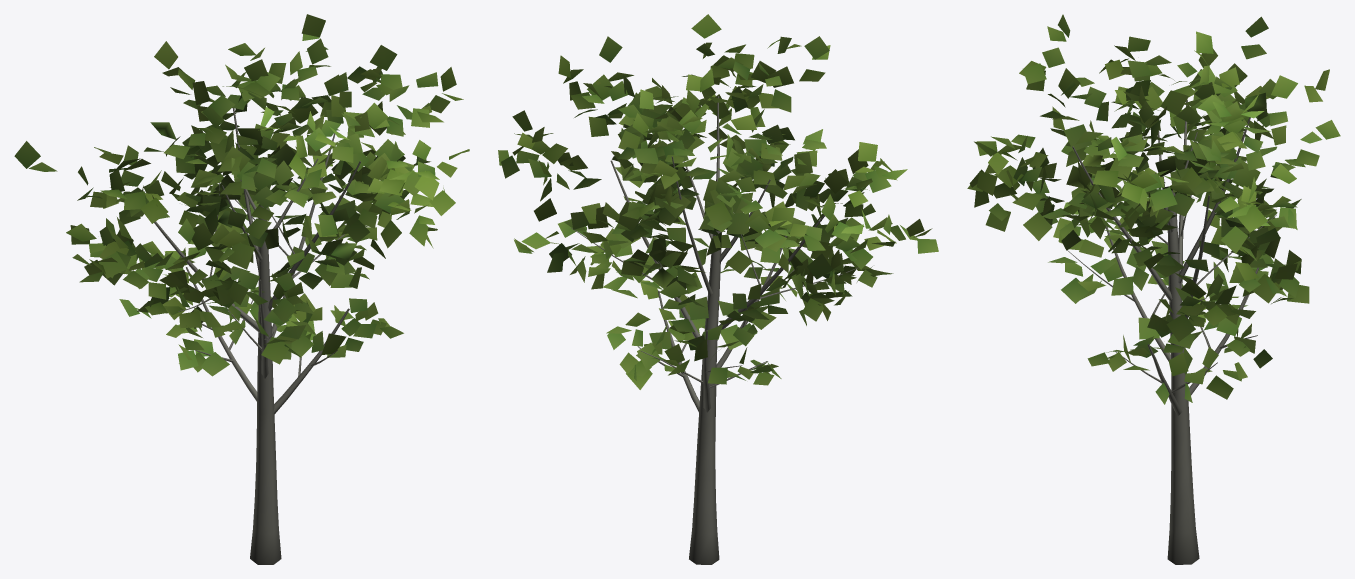
Rendered from beech-c.lod1.glb.
3 views of the same model, side by side, from view 1: azimuth 30°, elevation 25°; view 2: azimuth 150°, elevation 25°; view 3: azimuth 270°, elevation 25° (orthographic). The views are drawn at different scales.
Bounding box in the file's own units: 11.29 × 14.56 × 9.46.
